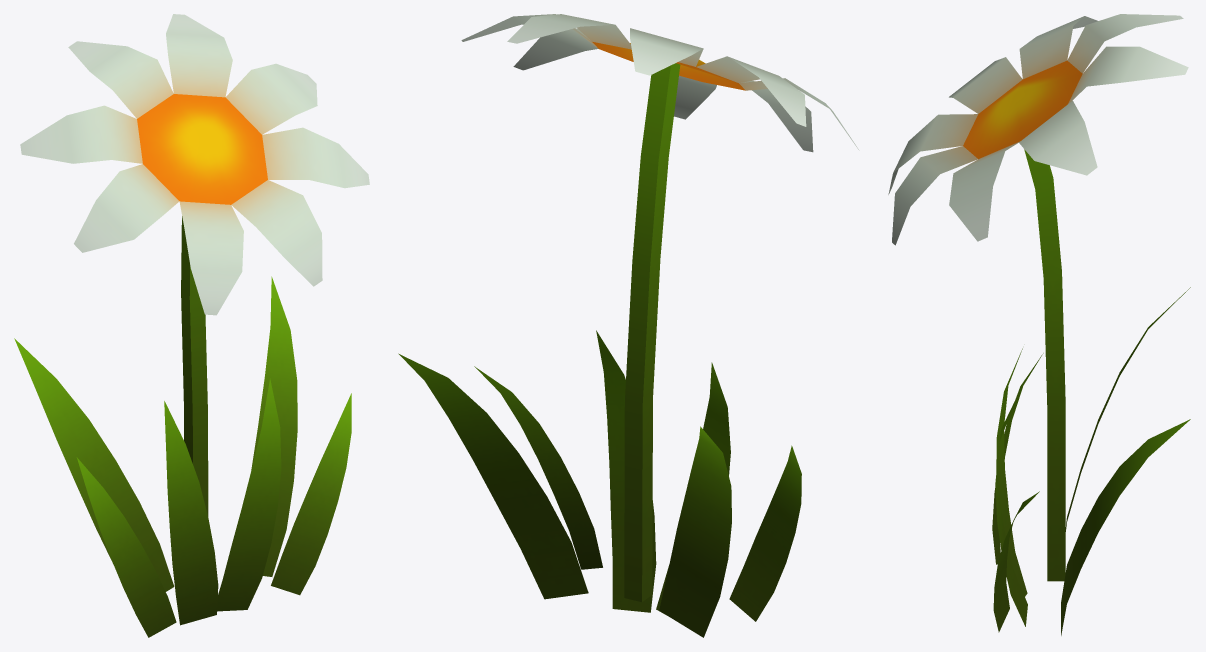
Rendered from Mesh_Flower01.fbx.
3 views of the same model, side by side, from view 1: azimuth 30°, elevation 25°; view 2: azimuth 150°, elevation 25°; view 3: azimuth 270°, elevation 25° (orthographic). The views are drawn at different scales.
Visible parts, largest first — view 1: Mesh_Flower01; view 2: Mesh_Flower01; view 3: Mesh_Flower01.
Boxes of the visible parts, x1,y1,x2,y2 form: Mesh_Flower01: [14, 14, 369, 637]; Mesh_Flower01: [398, 14, 859, 637]; Mesh_Flower01: [888, 14, 1190, 635].
Bounding box in the file's own units: 0.4322 × 0.7308 × 0.3543.
